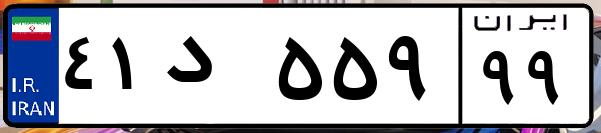1: (110, 28, 158, 98)
4: (57, 26, 110, 100)
5: (270, 28, 330, 110), (330, 28, 385, 110)
9: (385, 28, 445, 110), (475, 38, 525, 113), (525, 38, 570, 115)
د: (158, 20, 270, 120)
